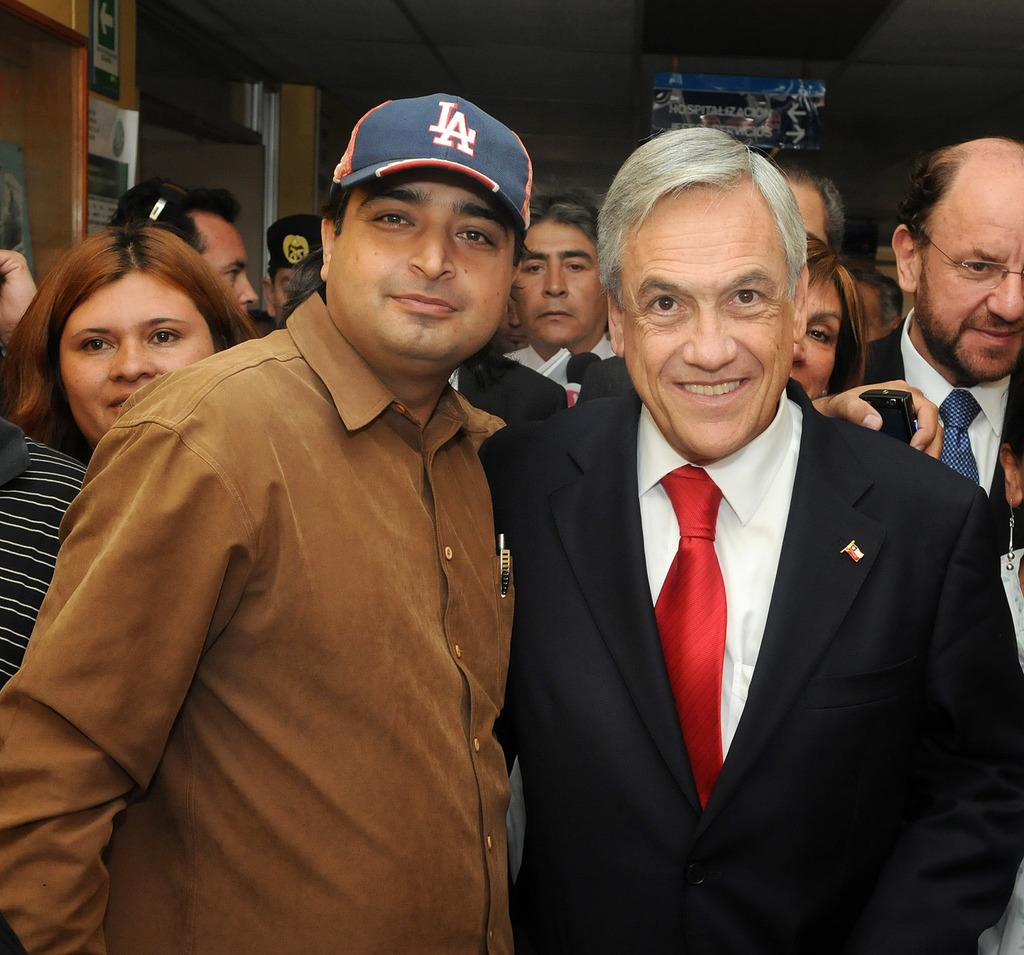Hat: (332, 91, 528, 243)
